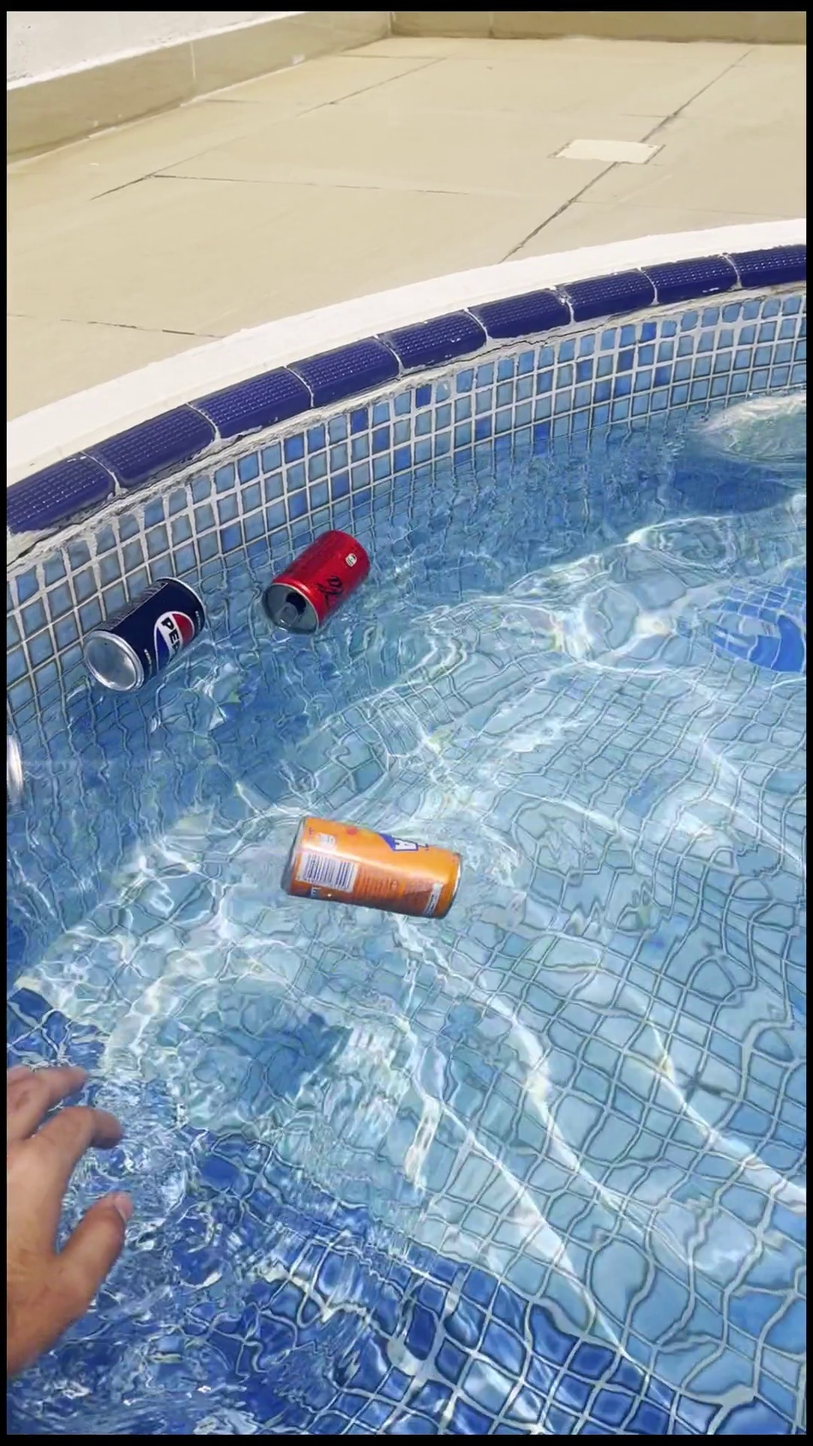debris: (277, 780, 464, 950), (257, 498, 373, 663), (78, 566, 210, 705), (8, 718, 26, 813)
